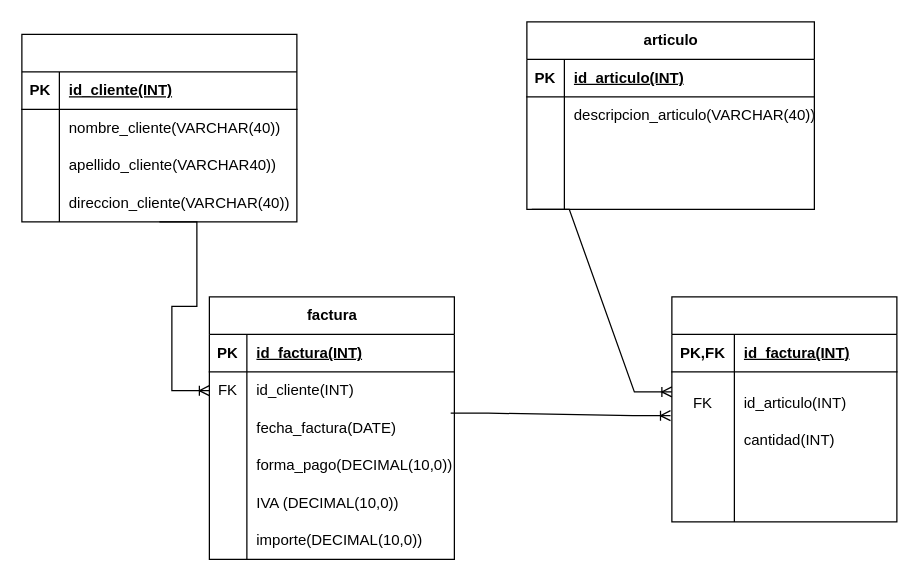
Image size: 919x581. Some labels were removed from this diagram. Here are the shapes that lost their labels. From the top down, the box of each, then its label:
(21, 33, 297, 222): clientes
(671, 296, 897, 522): detalle_factura
